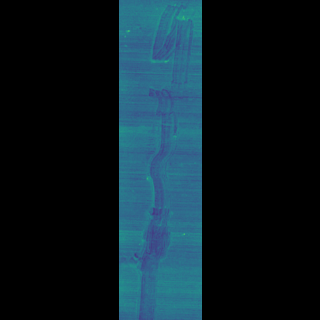Loch: (153, 86, 164, 319), (156, 1, 169, 101)
